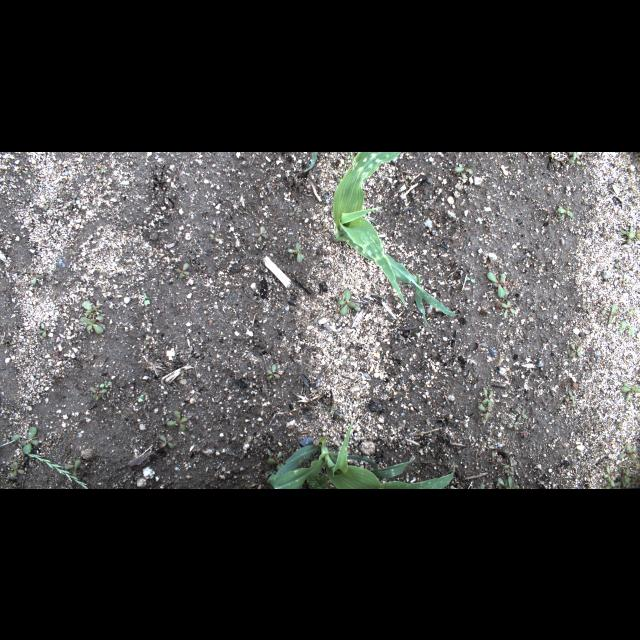crop: (331, 151, 457, 327), (268, 418, 454, 488), (303, 151, 317, 171)
weed: (28, 454, 88, 488), (600, 302, 634, 338), (336, 286, 362, 316), (486, 272, 516, 298), (14, 427, 38, 455), (166, 410, 190, 432), (79, 315, 105, 335), (616, 468, 638, 488), (286, 240, 304, 264), (550, 203, 574, 220), (264, 362, 284, 382), (476, 401, 496, 421), (66, 458, 88, 476), (452, 162, 473, 180), (266, 450, 284, 470), (618, 444, 636, 464), (620, 380, 638, 400), (620, 226, 640, 244), (27, 268, 46, 286), (602, 464, 616, 488), (170, 261, 188, 279), (478, 388, 494, 408), (81, 300, 103, 314), (500, 300, 516, 318), (568, 338, 582, 358), (88, 386, 108, 400), (502, 456, 518, 472), (330, 402, 344, 420), (255, 224, 267, 243), (160, 434, 174, 450), (10, 462, 24, 478), (514, 408, 528, 422), (626, 306, 640, 320), (568, 152, 582, 166), (340, 360, 354, 372), (497, 474, 509, 488), (141, 291, 151, 307), (568, 388, 578, 404), (36, 326, 48, 338), (98, 380, 112, 390), (508, 477, 520, 488), (563, 397, 575, 408), (288, 207, 304, 215), (136, 392, 148, 402), (581, 302, 591, 314), (618, 275, 630, 285), (208, 232, 220, 242), (44, 198, 54, 210), (16, 164, 28, 174), (510, 419, 520, 429), (267, 238, 277, 248), (484, 221, 494, 231), (314, 310, 322, 322), (70, 191, 78, 203), (96, 162, 105, 172), (490, 450, 496, 464), (578, 382, 586, 392), (67, 338, 77, 346), (146, 339, 154, 348), (0, 266, 6, 278), (564, 184, 570, 196), (614, 262, 622, 270), (8, 210, 16, 218), (476, 215, 484, 223), (478, 482, 488, 488), (466, 276, 476, 282), (487, 258, 493, 268), (504, 470, 514, 476), (4, 298, 10, 306), (72, 249, 76, 261), (618, 464, 626, 470), (5, 432, 9, 442), (322, 222, 326, 232), (498, 220, 504, 226), (268, 470, 274, 474), (381, 348, 384, 354)
